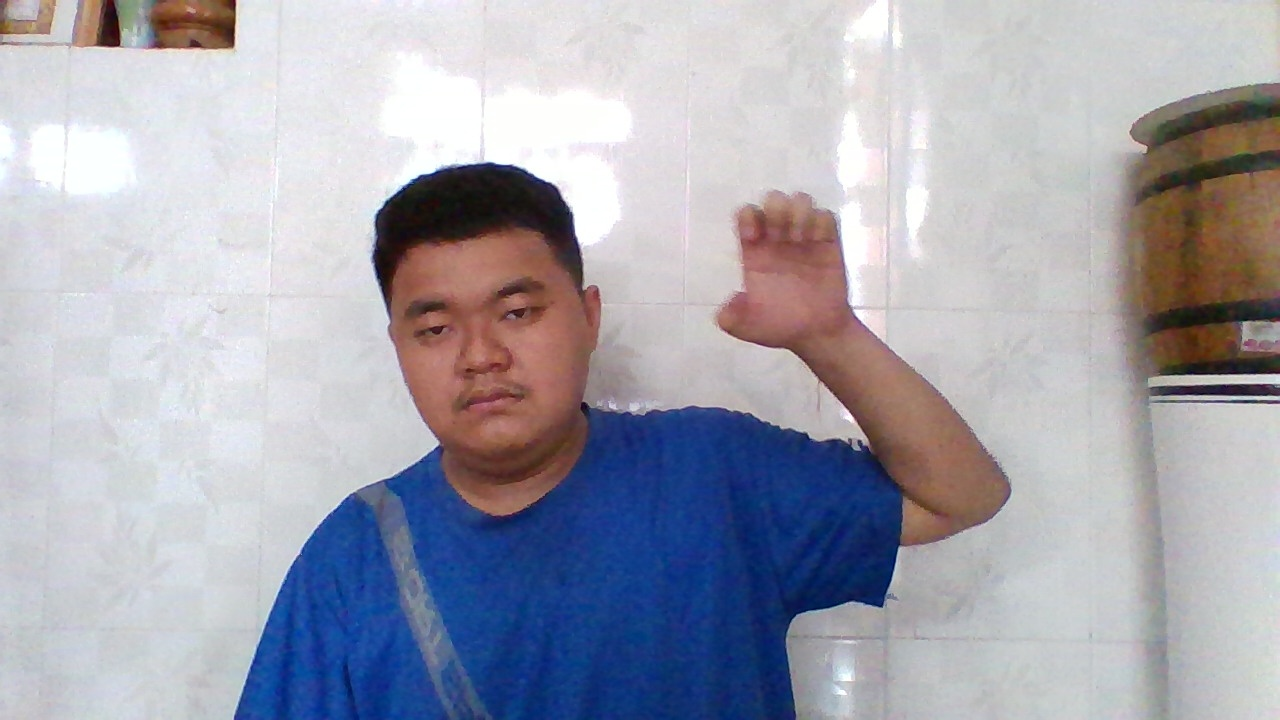E: (707, 181, 844, 353)
